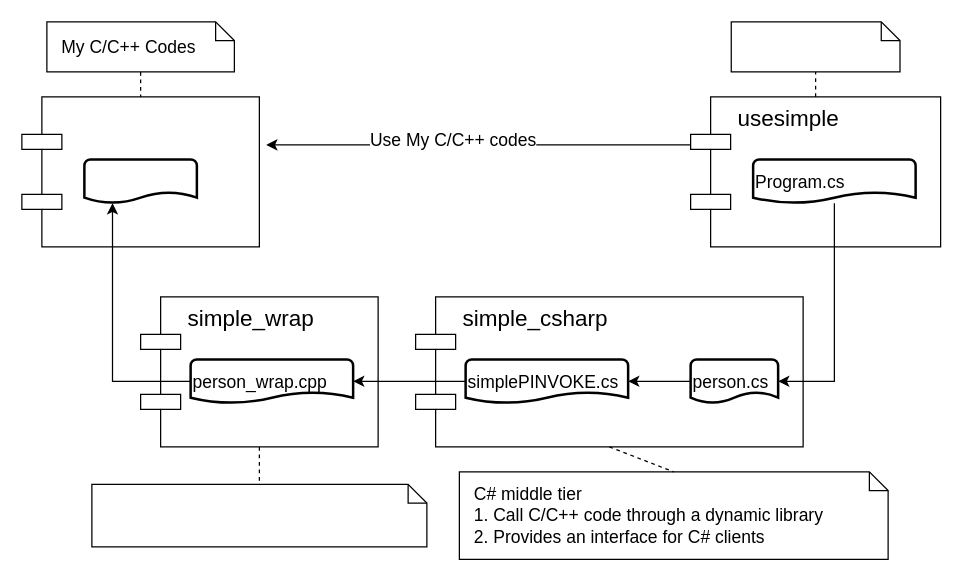
Some shapes in this 963 by 581 pixel diagram are drawn without their labels. Each missing label, with the box of its shape:
C/C + + middle tier Wrap C/C++ codes the way C# wants it: (91, 483, 427, 547)
Client program: (730, 21, 900, 72)
person.h: (82, 158, 198, 204)
simple: (21, 96, 259, 247)
